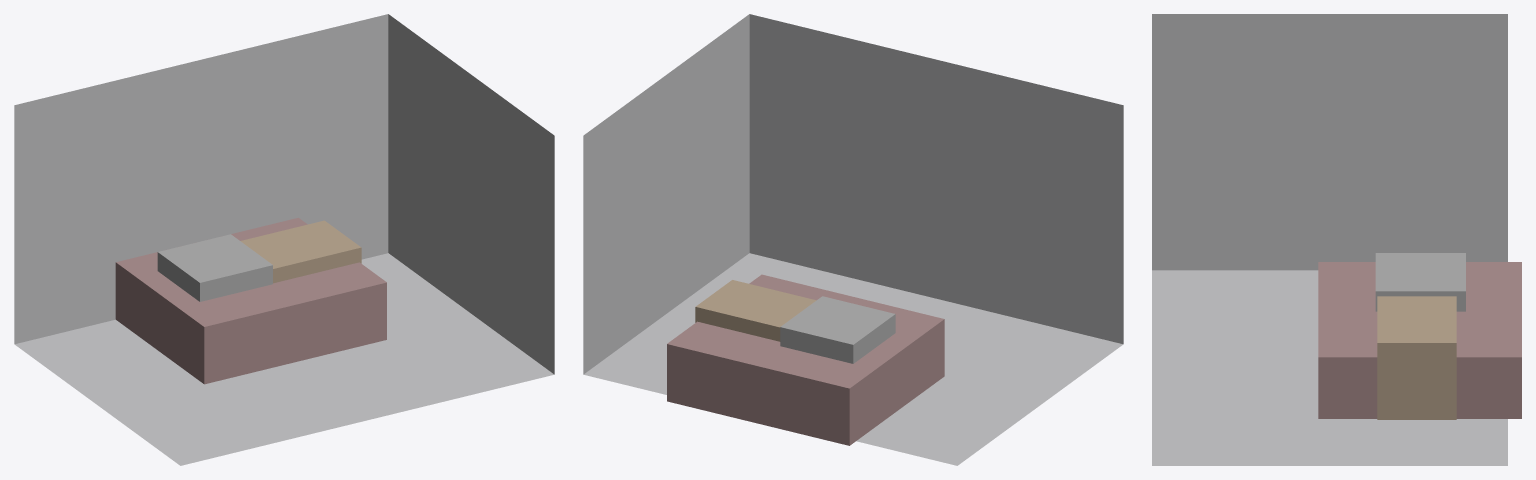
File: current_layout.glb
3 renders of one model, left to right at view 1: azimuth 30°, elevation 25°; view 2: azimuth 150°, elevation 25°; view 3: azimuth 270°, elevation 25°, orthographic. The views are drawn at different scales.
Visible parts, largest first — view 1: room, bed, dustbin, desk; view 2: room, bed, dustbin, desk; view 3: room, bed, desk, dustbin.
Part boxes in pixels (bbox=[...]): room: bbox=[14, 14, 554, 465]; bed: bbox=[115, 217, 386, 384]; dustbin: bbox=[157, 234, 272, 301]; desk: bbox=[240, 220, 361, 283]; room: bbox=[583, 14, 1123, 465]; bed: bbox=[667, 274, 944, 445]; dustbin: bbox=[780, 296, 895, 363]; desk: bbox=[695, 280, 816, 341]; room: bbox=[1152, 14, 1507, 465]; bed: bbox=[1318, 262, 1521, 418]; desk: bbox=[1377, 296, 1456, 419]; dustbin: bbox=[1375, 253, 1465, 311].
Size of the model in its own units: 4.09 by 2.5 by 3.27.
